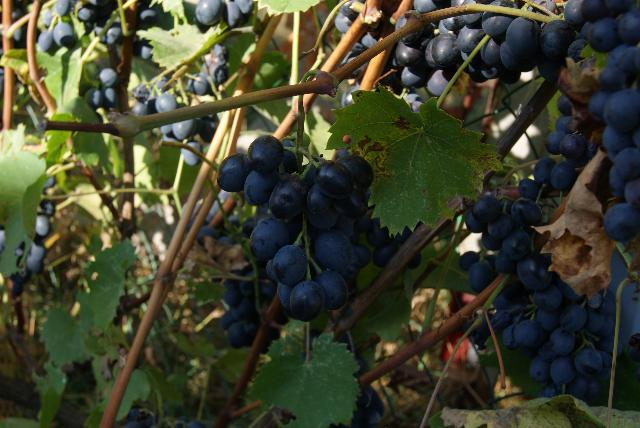grapes: (218, 106, 374, 322)
